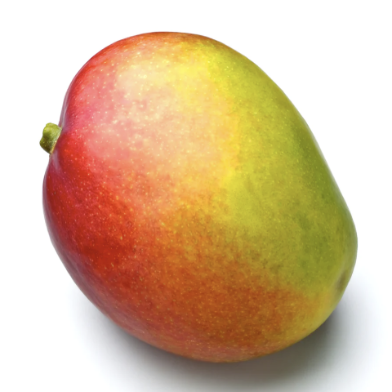mango: (12, 6, 386, 378)
